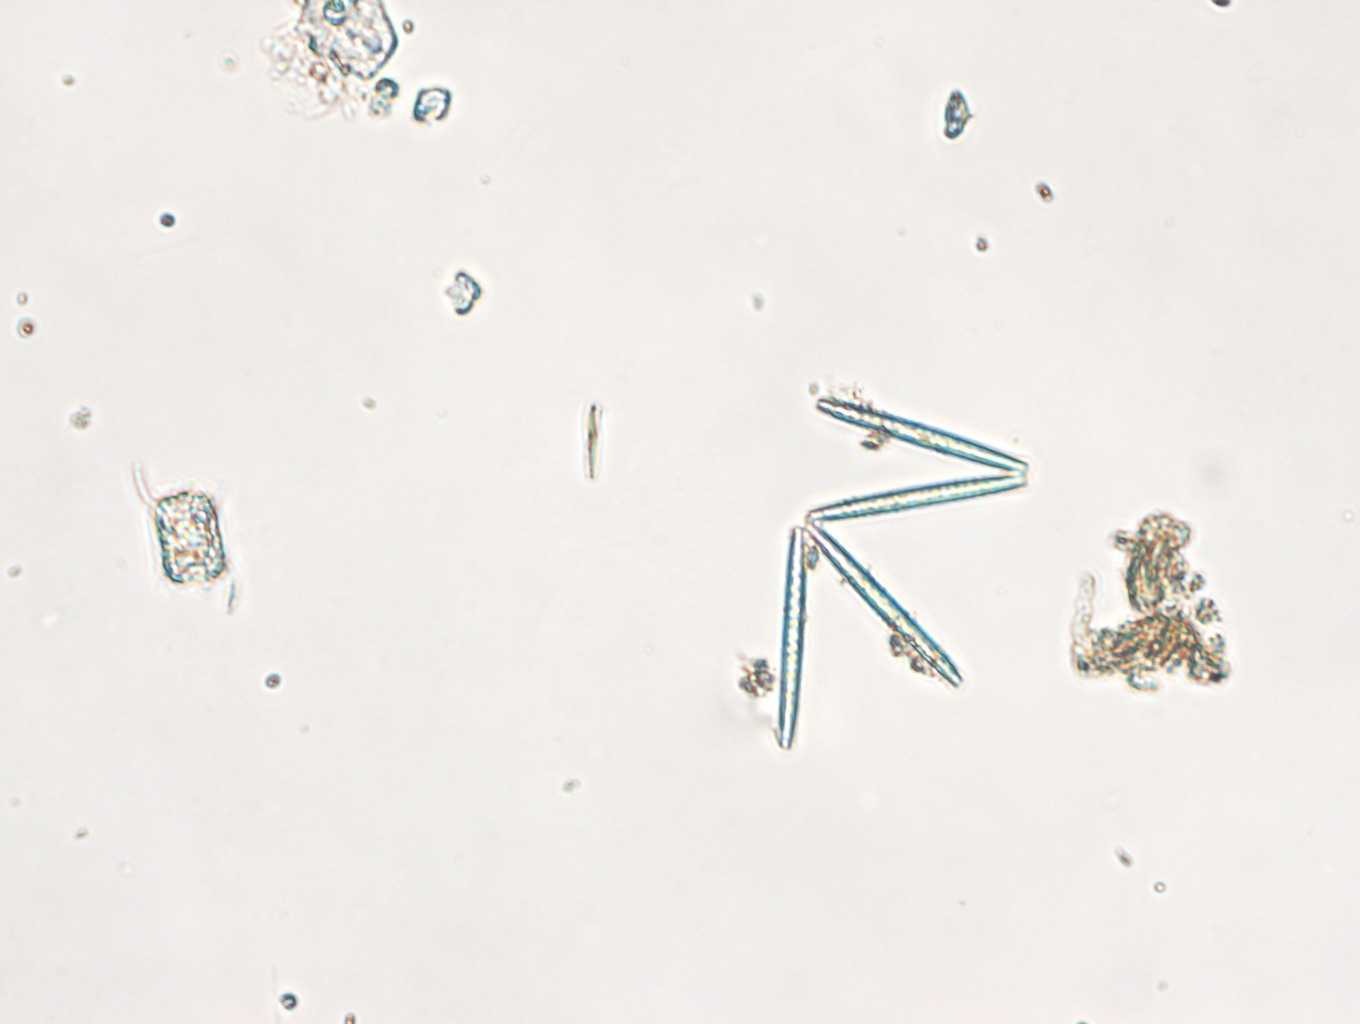thalassionema nitzschioides: (738, 379, 1037, 758)
